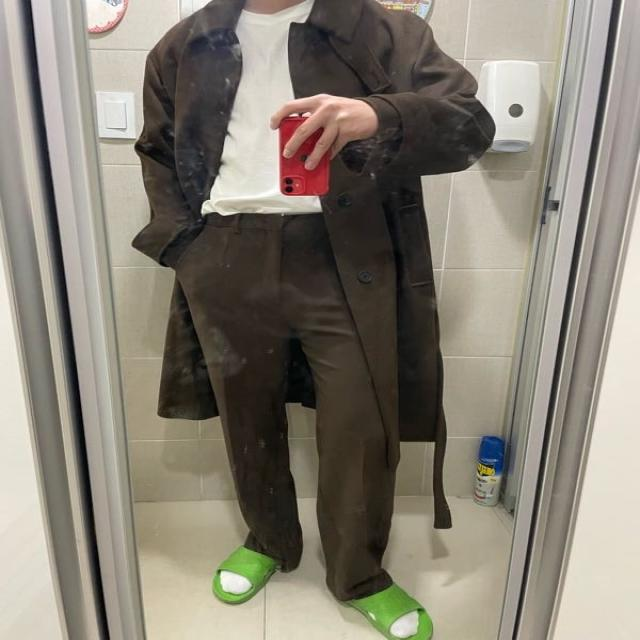coat: (130, 0, 496, 442)
slacks: (175, 209, 401, 601)
